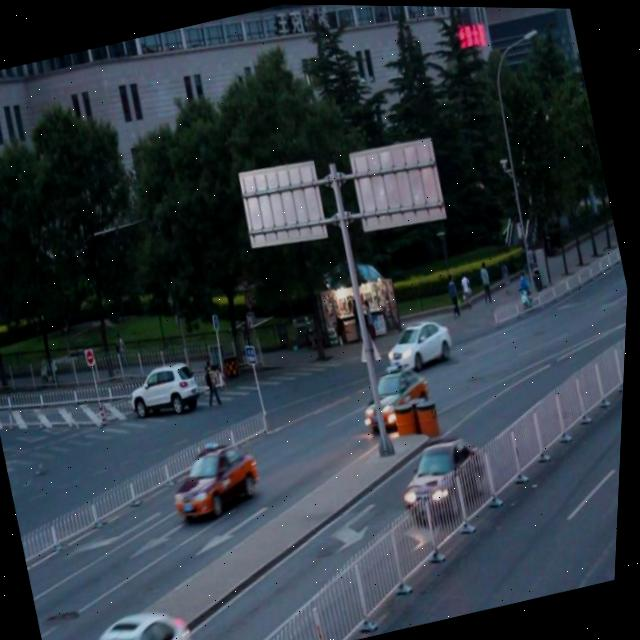car: (395, 429, 499, 526), (170, 435, 273, 527), (357, 360, 443, 440), (54, 600, 208, 640), (382, 308, 461, 378), (125, 357, 204, 424)
